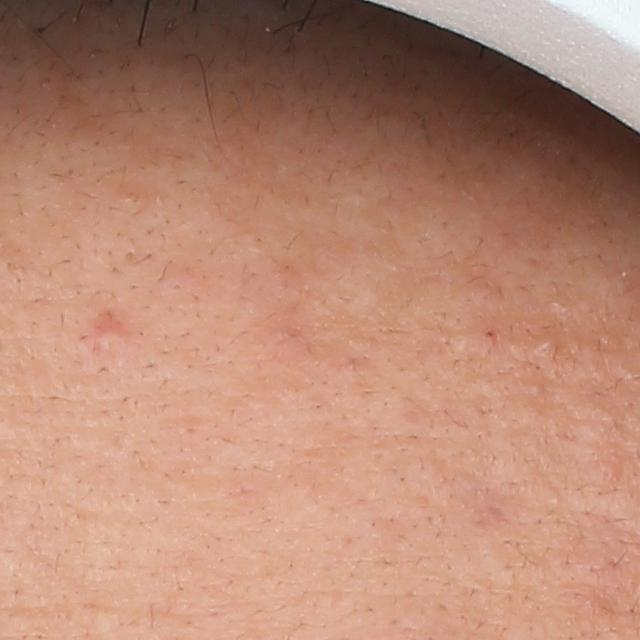comedo: (533, 334, 561, 359)
